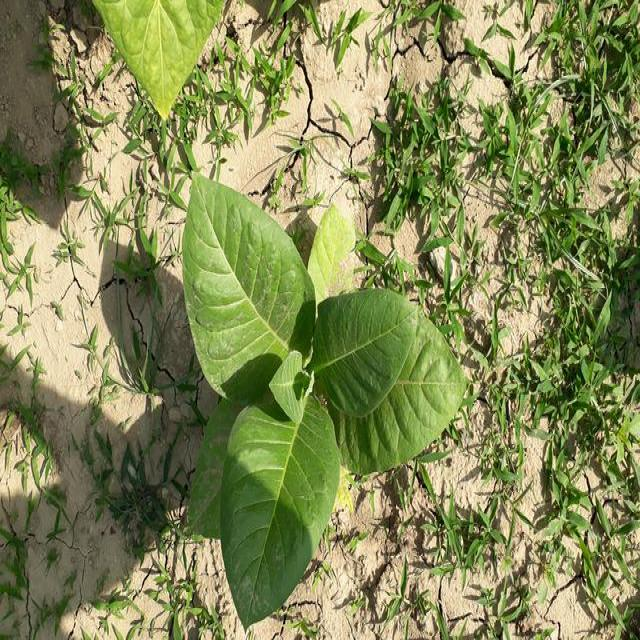crop: (180, 167, 470, 623)
